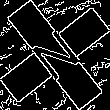N_SE: (23, 23, 87, 87)
